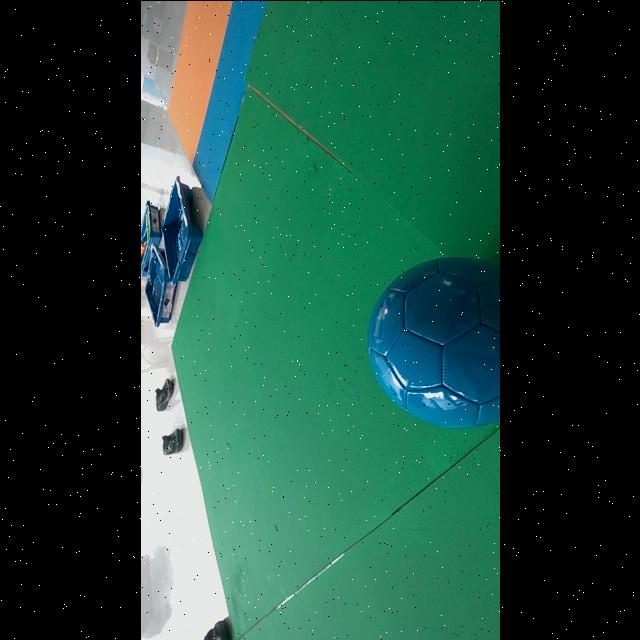B: (369, 256, 500, 427)
